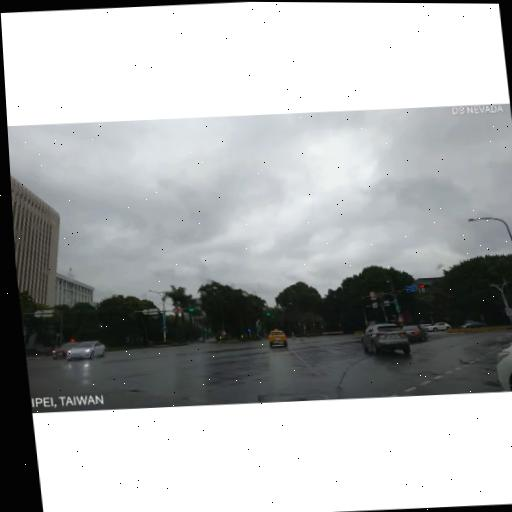Car: (357, 322, 416, 358), (489, 332, 512, 391), (64, 337, 106, 360), (51, 336, 83, 361), (399, 321, 428, 343), (268, 325, 290, 351), (423, 320, 451, 333), (458, 319, 487, 329), (417, 317, 434, 329)
